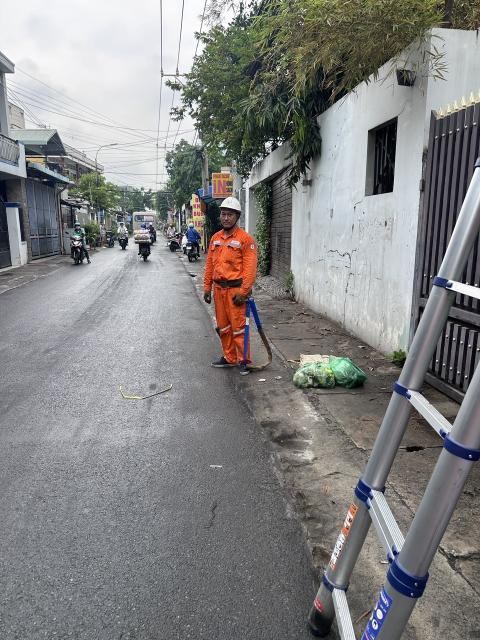gloves: (200, 288, 216, 310), (234, 290, 246, 304)
harness: (211, 274, 248, 293)
helmet: (219, 196, 243, 213)
shoes: (231, 359, 254, 379), (213, 355, 232, 368)
